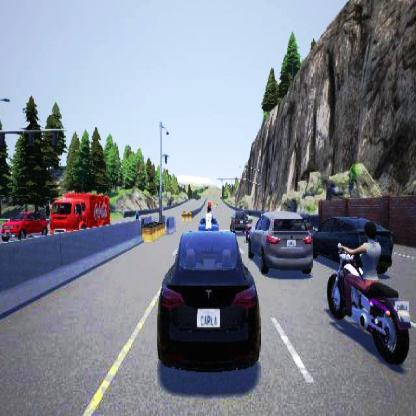motobike: (323, 218, 411, 364)
vehicle: (156, 223, 258, 371), (312, 210, 394, 278), (245, 210, 313, 276), (49, 193, 110, 233), (1, 211, 48, 240)
